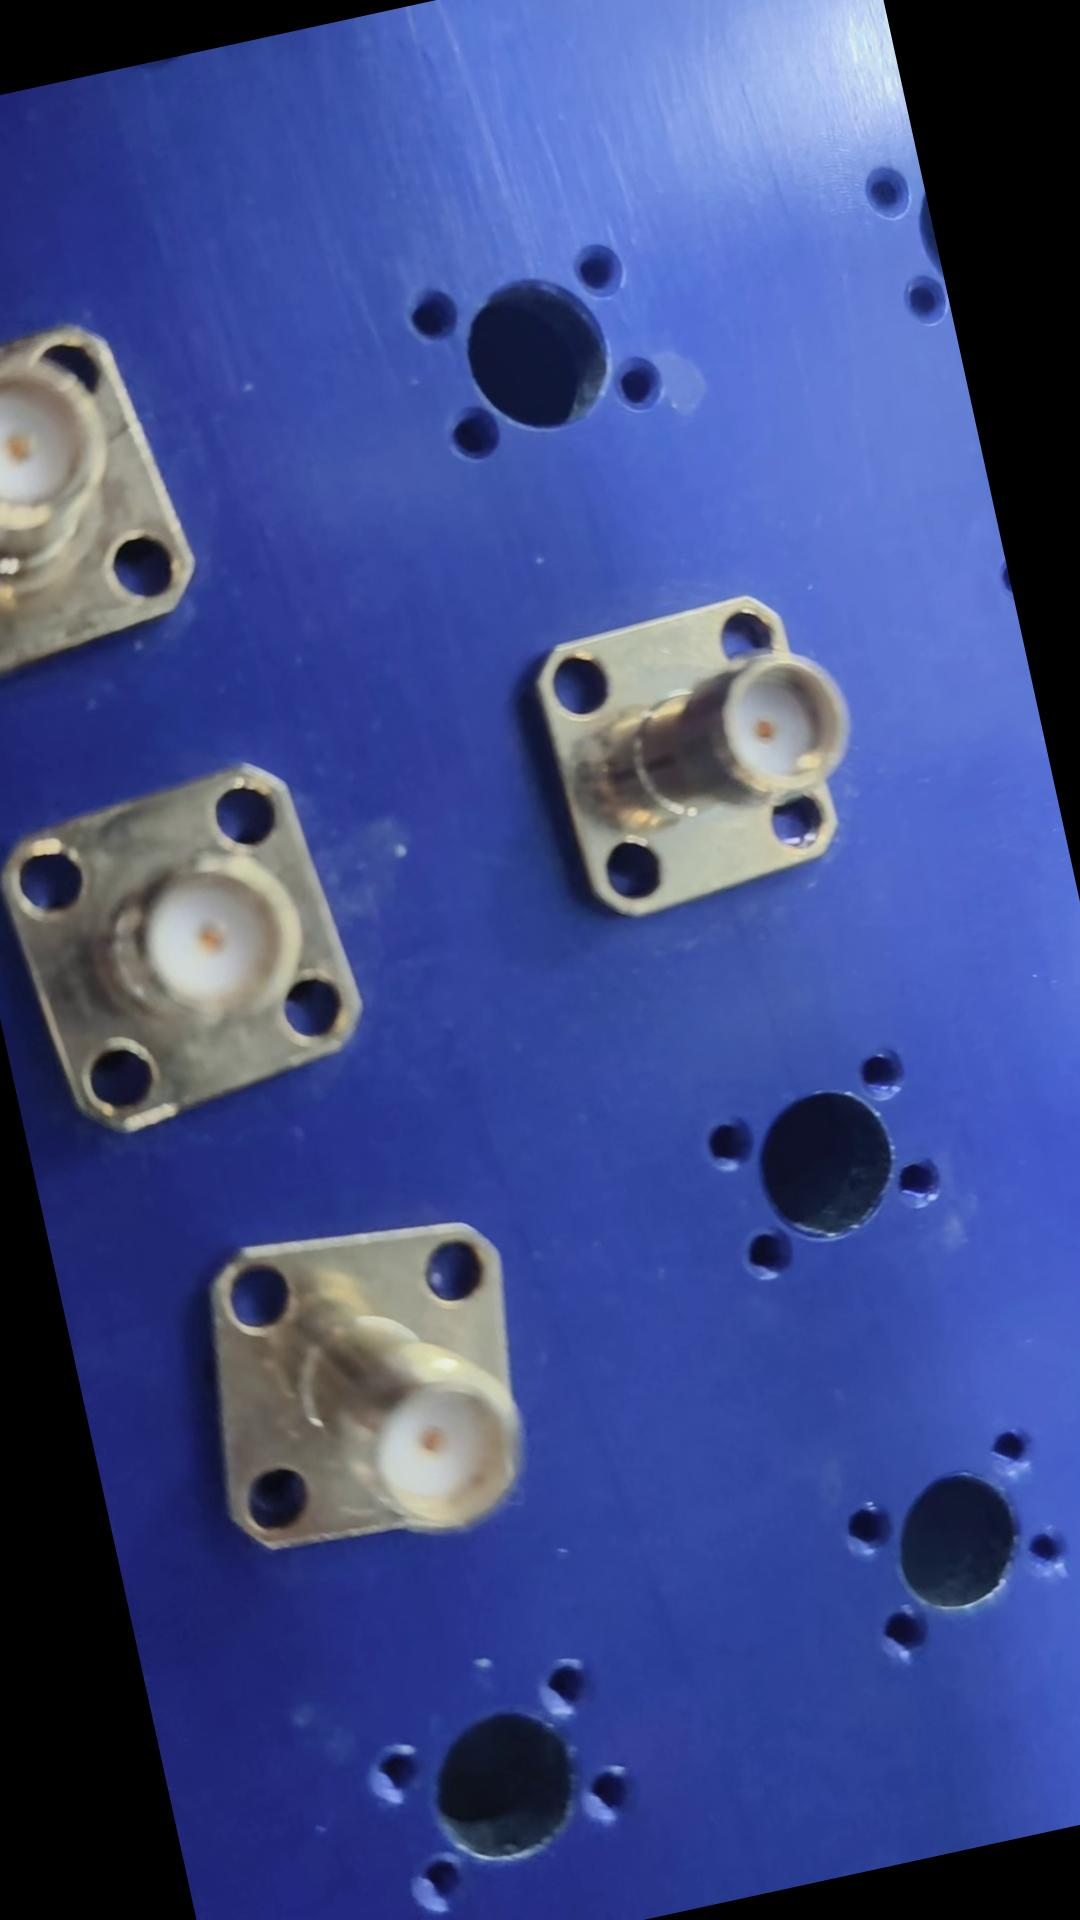SMA: (167, 1196, 579, 1569), (506, 564, 880, 938)
